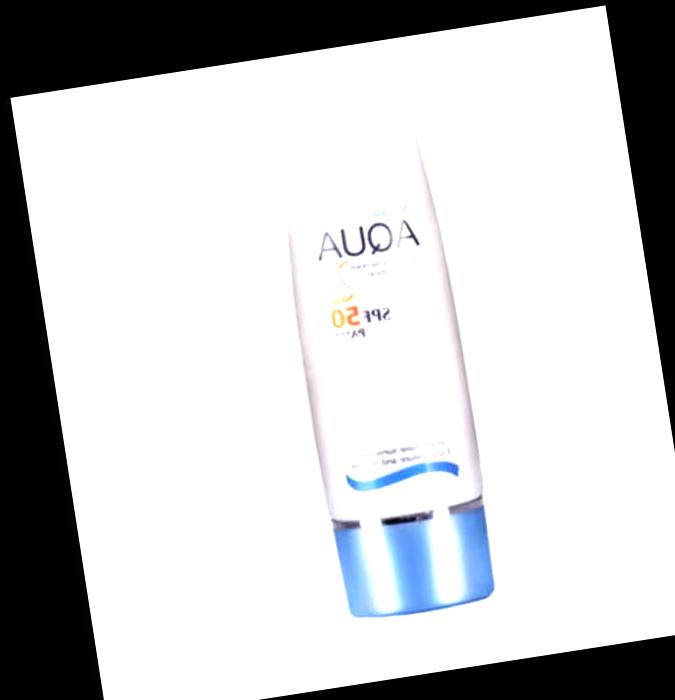cosmetic: (258, 94, 501, 623)
